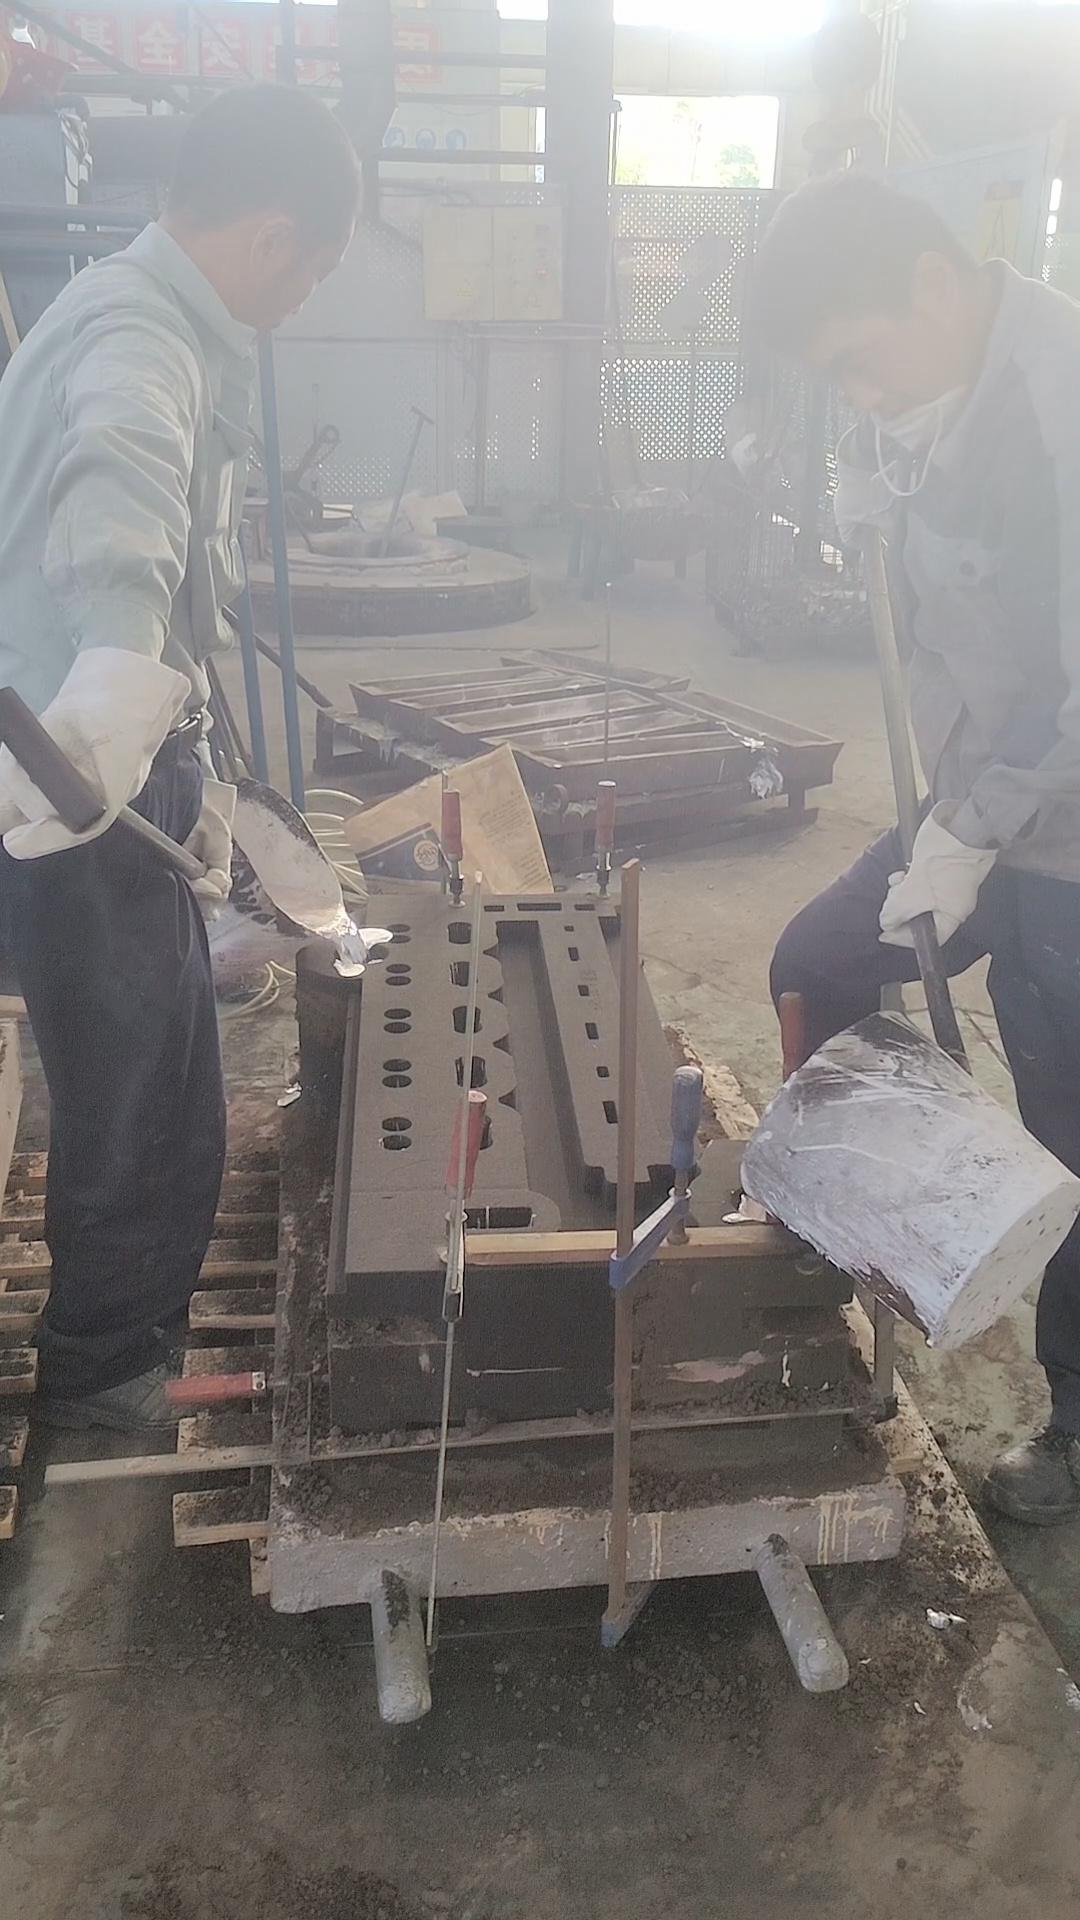pouring hole: (727, 1180, 798, 1222), (328, 942, 392, 967)
